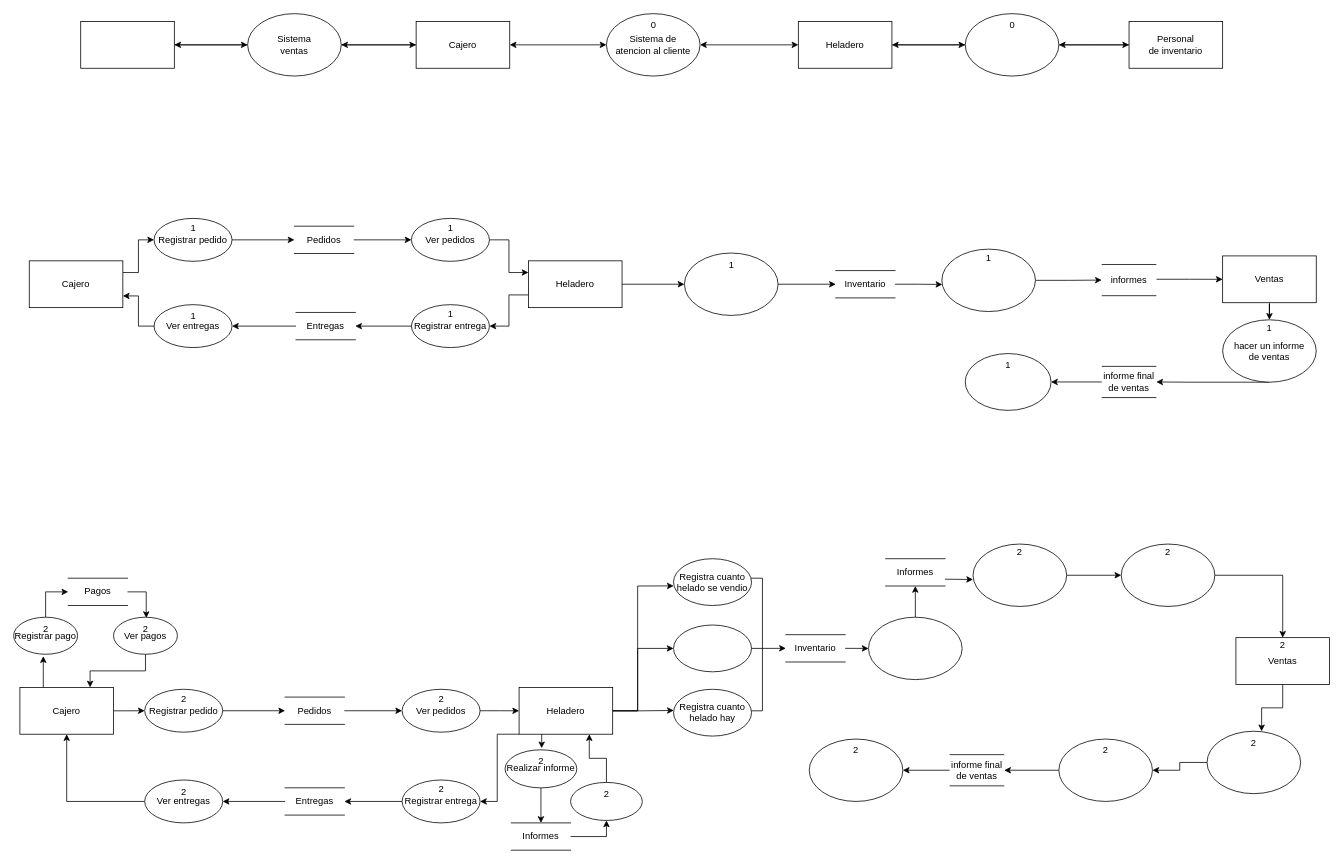
This 1343x864 diagram has some shape labels left out. Each missing label, with the box of its shape:
Enviar informe: (1120, 543, 1215, 606)
hacer informe final de ventas: (1058, 738, 1152, 801)
Informe detallado del inventario del helado: (868, 616, 962, 680)
Informes de Helado: (941, 248, 1035, 312)
Ingresa la cantidad de helado: (684, 252, 778, 315)
Mostrar informe: (570, 782, 642, 820)
pedir respectivo producto: (808, 738, 903, 801)
Personal de Ventas: (80, 21, 174, 68)
Registra cuanto helado Ingreso: (673, 624, 752, 672)
registrar informe: (972, 543, 1067, 606)
Se pide helado: (964, 353, 1051, 410)
Sistema de gestion de inventario: (964, 13, 1059, 76)
ver informe de tarros: (1206, 730, 1301, 794)
